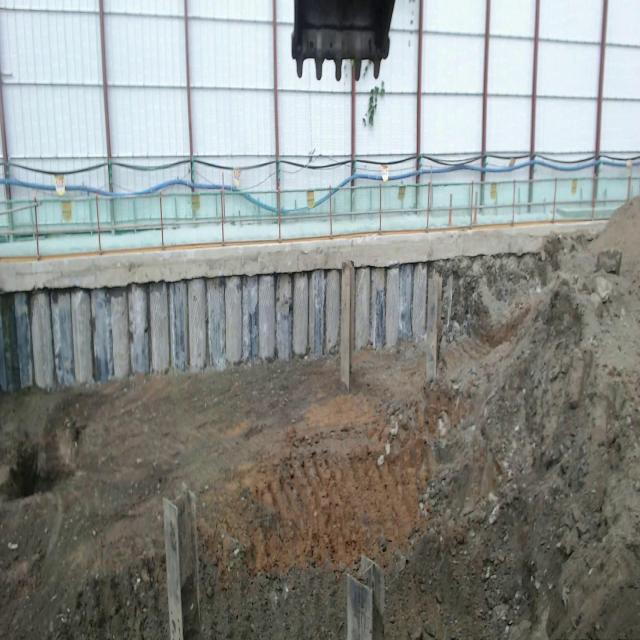cement: (0, 221, 604, 292)
red-sand: (0, 200, 640, 639)
